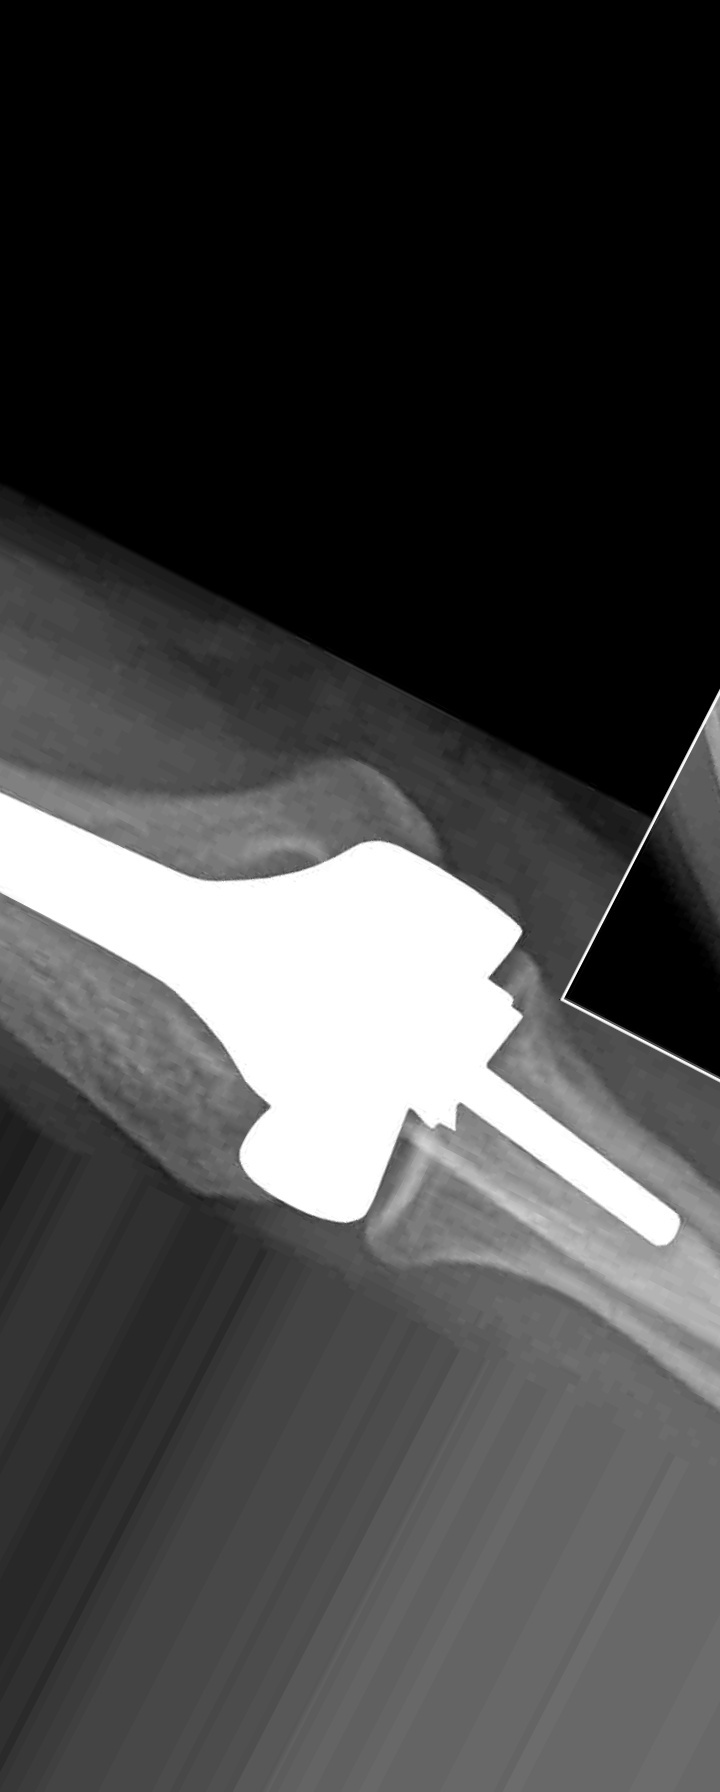Elbow - IBP - Biomet: (1, 777, 683, 1301)
